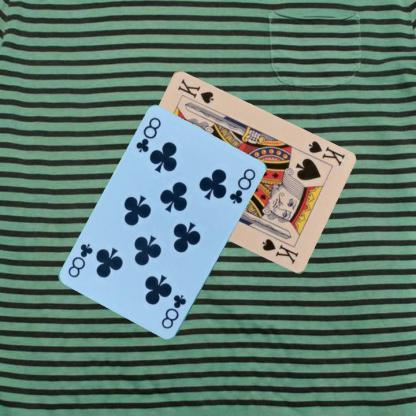8c: (158, 292, 188, 330), (133, 115, 162, 154)
Ks: (305, 138, 346, 168)
